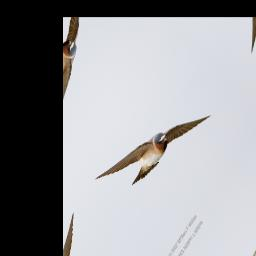Swallow: (92, 67, 211, 225)
